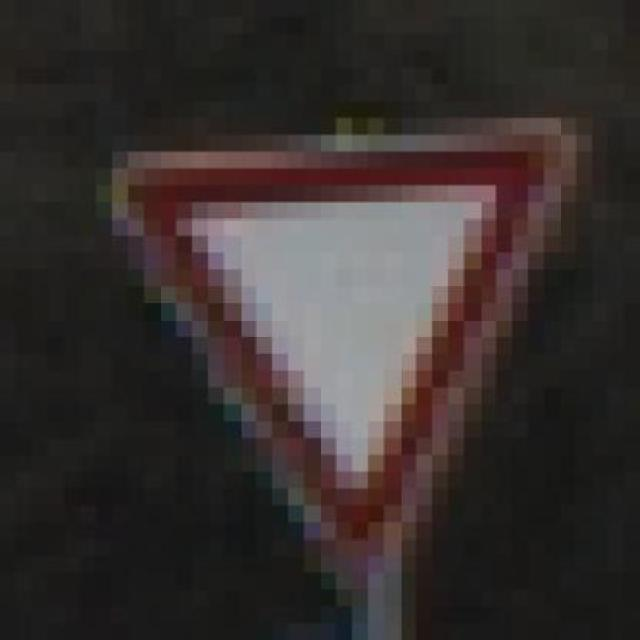Give Way: (80, 101, 625, 573)
